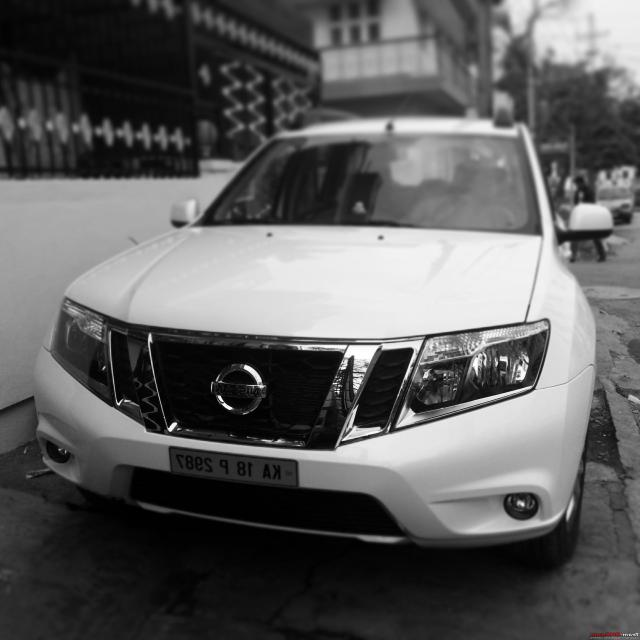number-plate: (142, 445, 299, 499)
